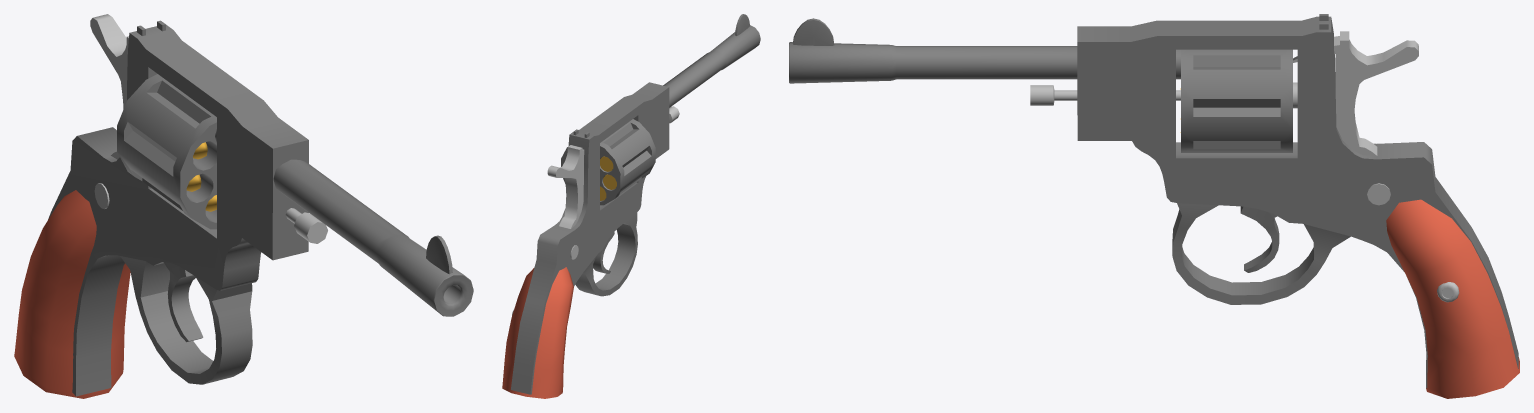
File: Revolver.fbx
3 views of the same model, side by side, from view 1: azimuth 30°, elevation 25°; view 2: azimuth 150°, elevation 25°; view 3: azimuth 270°, elevation 25° (orthographic). The views are drawn at different scales.
Parts seen in each view (by area): view 1: Body, Cylinder, Trigger, Hammer; view 2: Body, Cylinder, Hammer, Trigger; view 3: Body, Cylinder, Hammer, Trigger.
Part boxes in pixels (bbox=[...]): Body: bbox=[14, 20, 473, 398]; Cylinder: bbox=[117, 74, 216, 229]; Trigger: bbox=[163, 262, 203, 342]; Hammer: bbox=[90, 14, 128, 159]; Body: bbox=[502, 14, 760, 398]; Cylinder: bbox=[561, 119, 655, 205]; Hammer: bbox=[547, 145, 584, 228]; Trigger: bbox=[593, 232, 614, 273]; Body: bbox=[789, 14, 1519, 398]; Cylinder: bbox=[1180, 49, 1292, 152]; Hammer: bbox=[1293, 31, 1418, 156]; Trigger: bbox=[1240, 206, 1279, 272].
Bounding box in the file's own units: 49.53 × 183 × 330.
